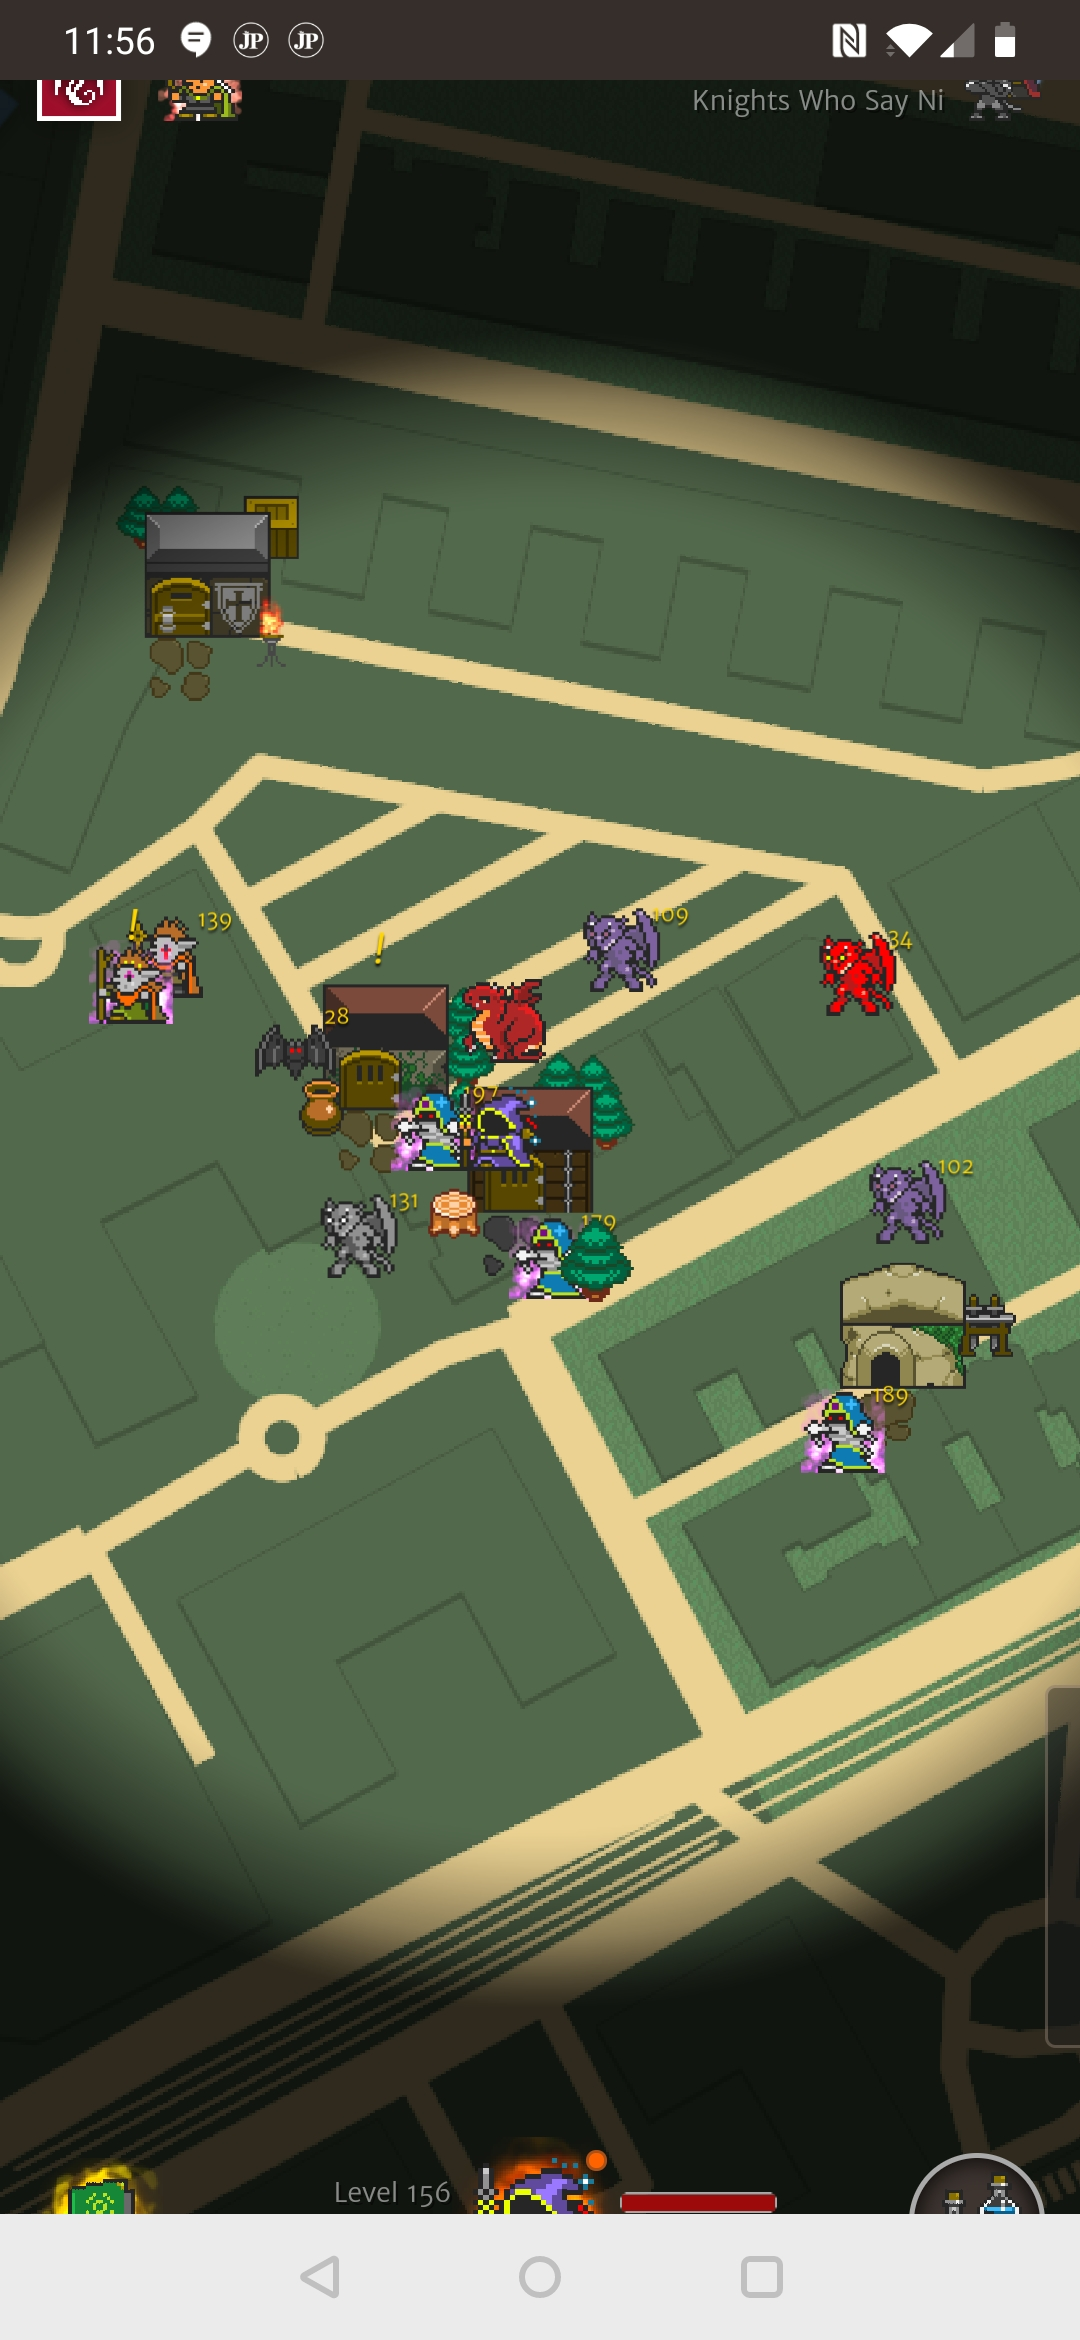monster: (860, 1158, 974, 1268), (577, 906, 684, 1016), (312, 1199, 419, 1289), (805, 1389, 895, 1499), (812, 930, 919, 1020), (129, 909, 222, 992)
player: (453, 1089, 553, 1185)
